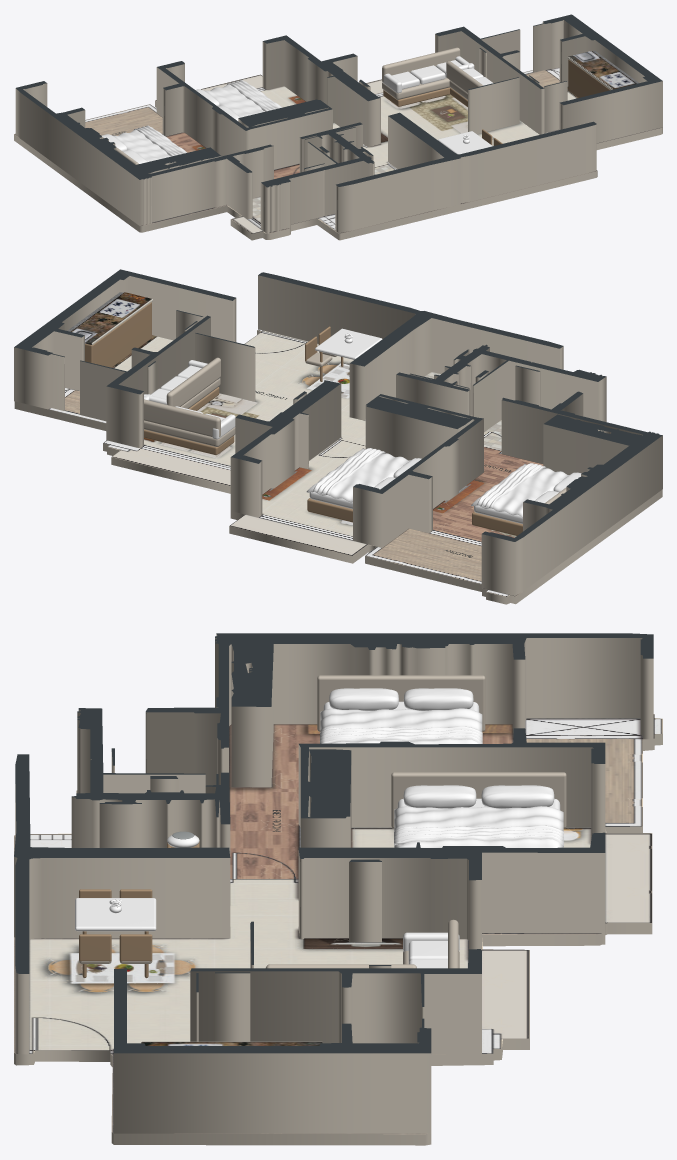
3 renders of one model, top to bottom at view 1: azimuth 30°, elevation 25°; view 2: azimuth 150°, elevation 25°; view 3: azimuth 270°, elevation 25°, orthographic. The views are drawn at different scales.
Parts seen in each view (by area): view 1: Partition walls, Apartment floor, Stone worktop, Draped bed linen.002, Sofa back, Draped bed linen, Kitchen cabinets, Marble dining top, Upholstered sofa frame, Draped bed linen.003, Sofa back.001, Draped bed linen.001 (+2 smaller); view 2: Partition walls, Apartment floor, Kitchen cabinets, Stone worktop, Draped bed linen.002, Draped bed linen, Sofa back, Sofa back.001, Marble dining top, Draped bed linen.003, Draped bed linen.001, Upholstered sofa frame (+3 smaller); view 3: Partition walls, Apartment floor, Draped bed linen.002, Draped bed linen, Upholstered headboard.001, Upholstered headboard, Marble dining top, Draped bed linen.003, Draped bed linen.001, Tailored pillow.002, Tailored pillow.003, Tailored pillow (+5 smaller).
Boxes of the visible parts, bbox=[...] form: Partition walls: bbox=[15, 14, 662, 233]; Apartment floor: bbox=[14, 67, 662, 240]; Stone worktop: bbox=[567, 50, 638, 89]; Draped bed linen.002: bbox=[204, 81, 281, 117]; Sofa back: bbox=[382, 47, 460, 81]; Draped bed linen: bbox=[112, 127, 186, 161]; Kitchen cabinets: bbox=[568, 59, 610, 97]; Marble dining top: bbox=[438, 131, 492, 154]; Upholstered sofa frame: bbox=[382, 77, 449, 99]; Draped bed linen.003: bbox=[226, 80, 279, 111]; Sofa back.001: bbox=[446, 61, 482, 93]; Draped bed linen.001: bbox=[133, 125, 185, 156]; Partition walls: bbox=[14, 269, 662, 595]; Apartment floor: bbox=[14, 329, 662, 604]; Kitchen cabinets: bbox=[85, 302, 151, 367]; Stone worktop: bbox=[67, 292, 152, 345]; Draped bed linen.002: bbox=[306, 448, 410, 502]; Draped bed linen: bbox=[471, 463, 569, 517]; Sofa back: bbox=[144, 399, 220, 436]; Sofa back.001: bbox=[166, 357, 220, 406]; Marble dining top: bbox=[315, 328, 382, 359]; Draped bed linen.003: bbox=[312, 448, 385, 495]; Draped bed linen.001: bbox=[476, 463, 546, 508]; Upholstered sofa frame: bbox=[144, 420, 235, 446]; Partition walls: bbox=[14, 633, 653, 1133]; Apartment floor: bbox=[14, 714, 662, 1145]; Draped bed linen.002: bbox=[394, 806, 563, 847]; Draped bed linen: bbox=[320, 708, 482, 744]; Upholstered headboard.001: bbox=[391, 772, 566, 828]; Upholstered headboard: bbox=[317, 675, 485, 731]; Marble dining top: bbox=[75, 898, 156, 931]; Draped bed linen.003: bbox=[394, 825, 563, 846]; Draped bed linen.001: bbox=[320, 726, 482, 743]; Tailored pillow.002: bbox=[403, 785, 476, 808]; Tailored pillow.003: bbox=[481, 785, 554, 808]; Tailored pillow: bbox=[329, 688, 398, 710].
Bounding box in the file's own units: 12.78 × 1.3 × 8.34.
Materials: 10 (1 with a texture image).
